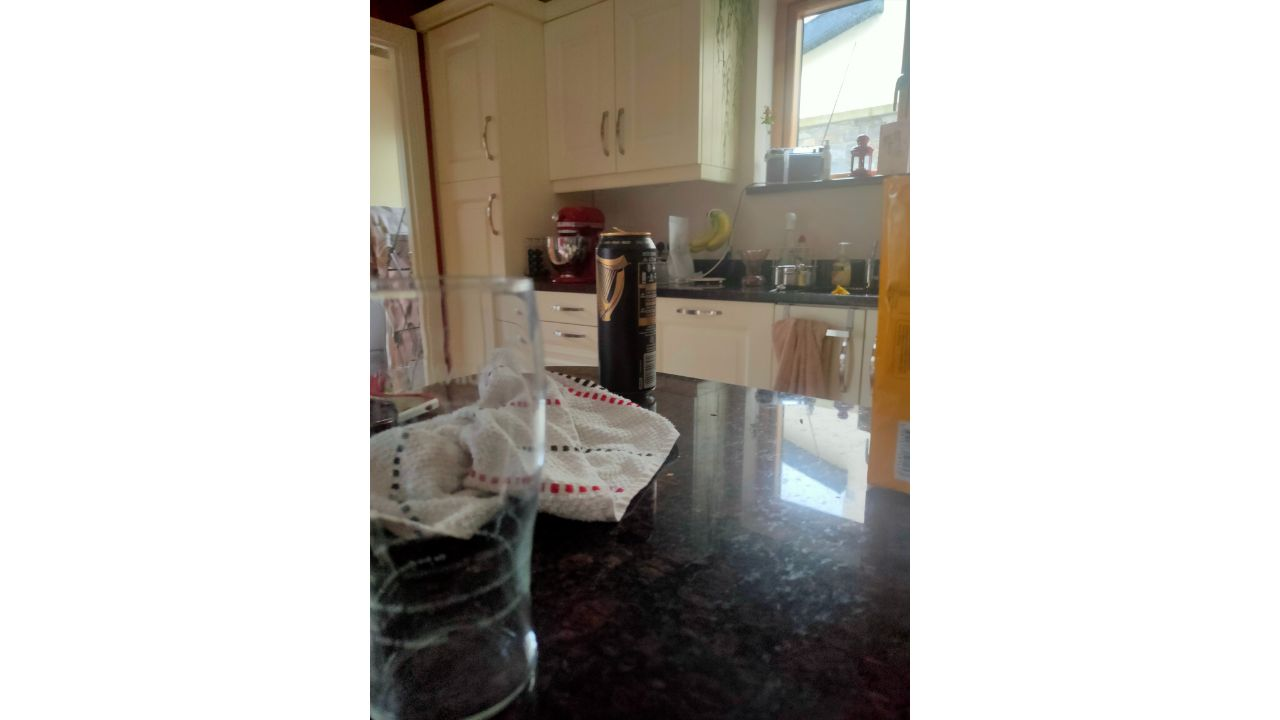Can: (594, 232, 671, 404)
